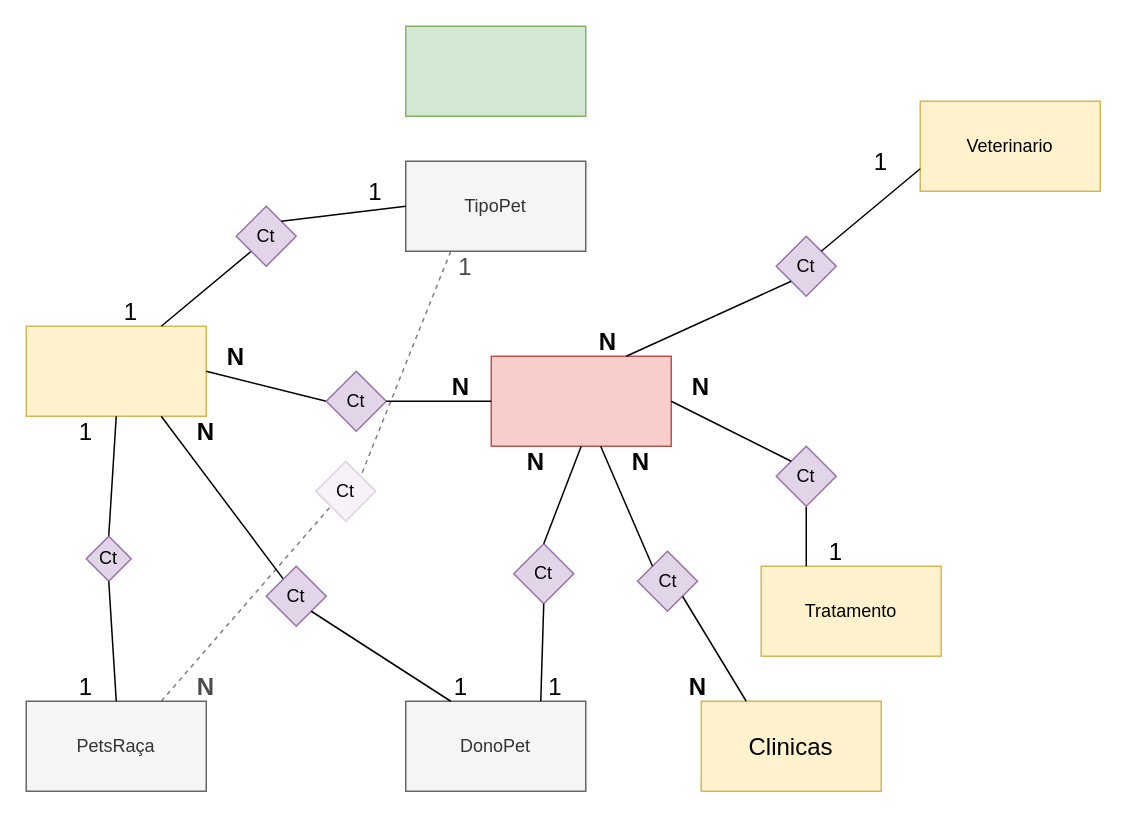
This 1127x818 diagram has some shape labels left out. The centre of each missing label's shape, as x and y in pixels:
Conceitual: the point at 495,70
FichaConsulta: the point at 580,400
Pets: the point at 115,370
